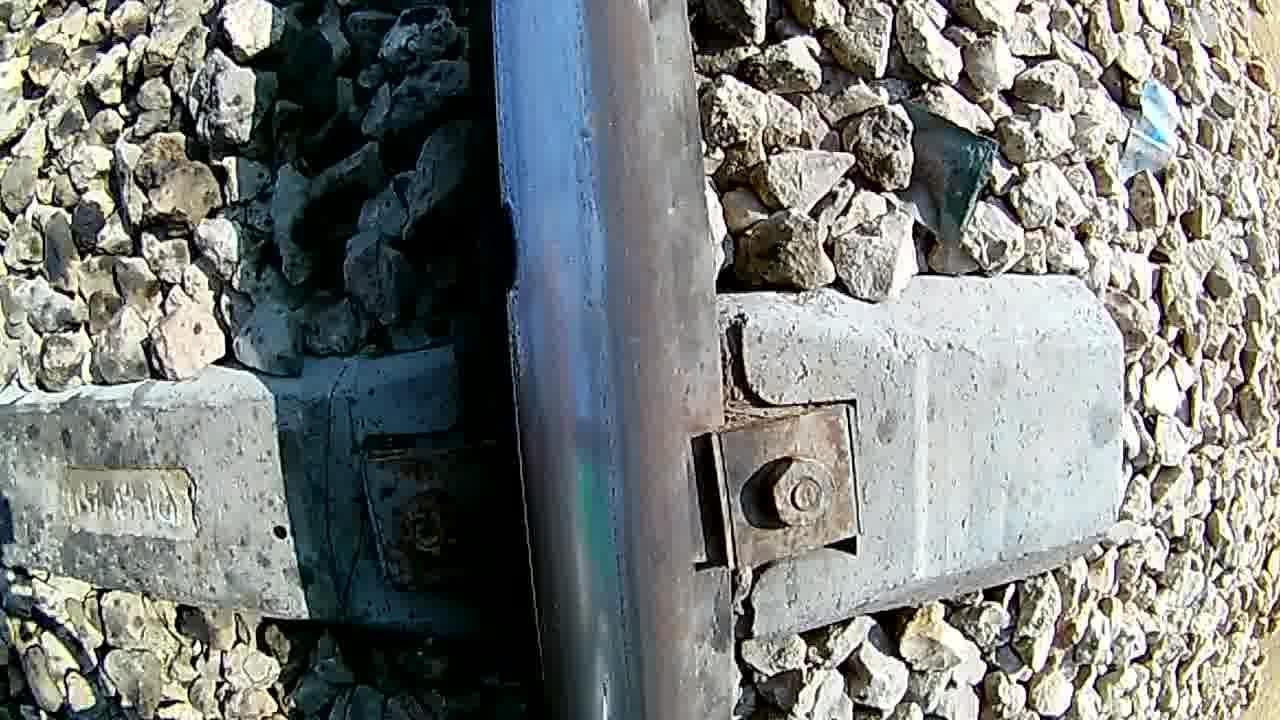crack: (489, 0, 706, 720)
